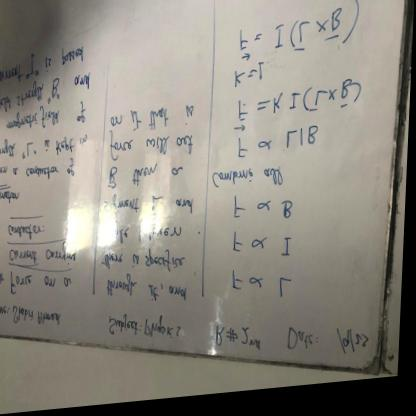Handwritten text: (7, 62, 106, 116), (13, 27, 102, 83), (0, 98, 98, 144), (101, 192, 201, 230), (106, 100, 201, 136), (106, 133, 199, 169), (209, 164, 292, 203), (103, 316, 195, 349), (0, 297, 73, 337), (102, 279, 195, 310), (3, 240, 88, 273), (7, 267, 82, 299), (9, 157, 84, 184), (123, 168, 187, 195), (3, 220, 52, 246), (284, 130, 328, 157), (285, 326, 317, 360), (229, 235, 252, 264), (279, 203, 300, 234), (276, 281, 299, 308), (229, 272, 250, 300), (234, 143, 257, 168), (231, 201, 252, 228), (278, 242, 299, 268)
